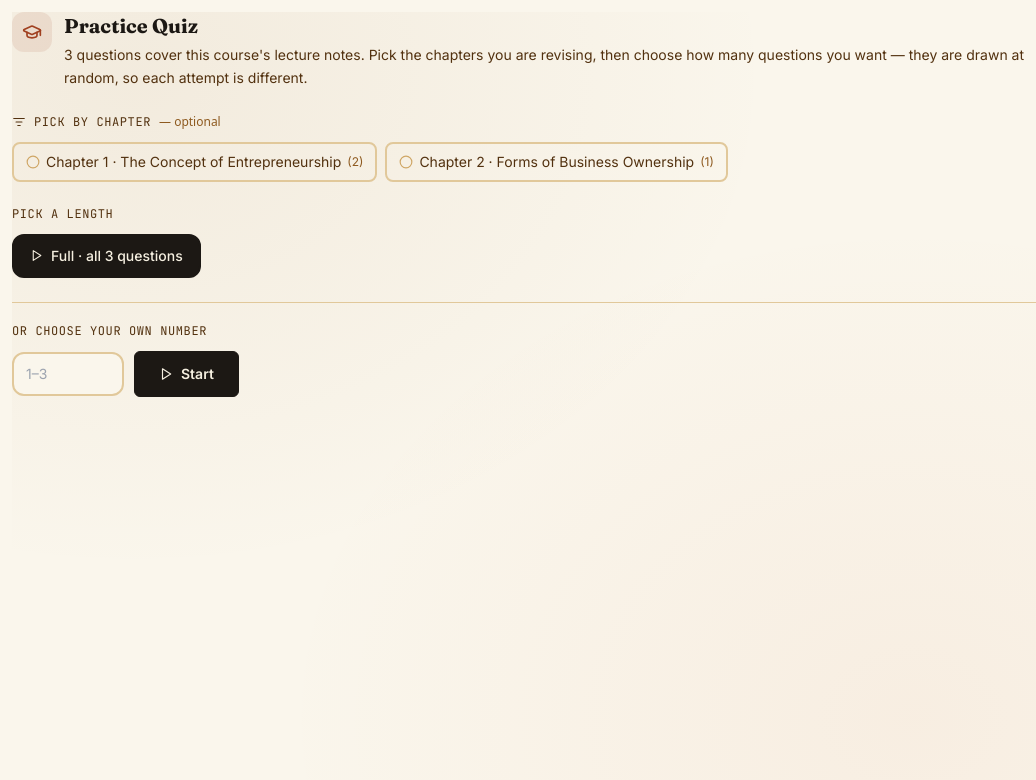
the chapter picker › clears a stale bound error when the pool changes
The width and height of the screenshot is (1036, 780).
Type "9" into the number field named "Number of questions".
click(68, 374); type("9")  # box top-left (12, 352), bottom-right (124, 396)
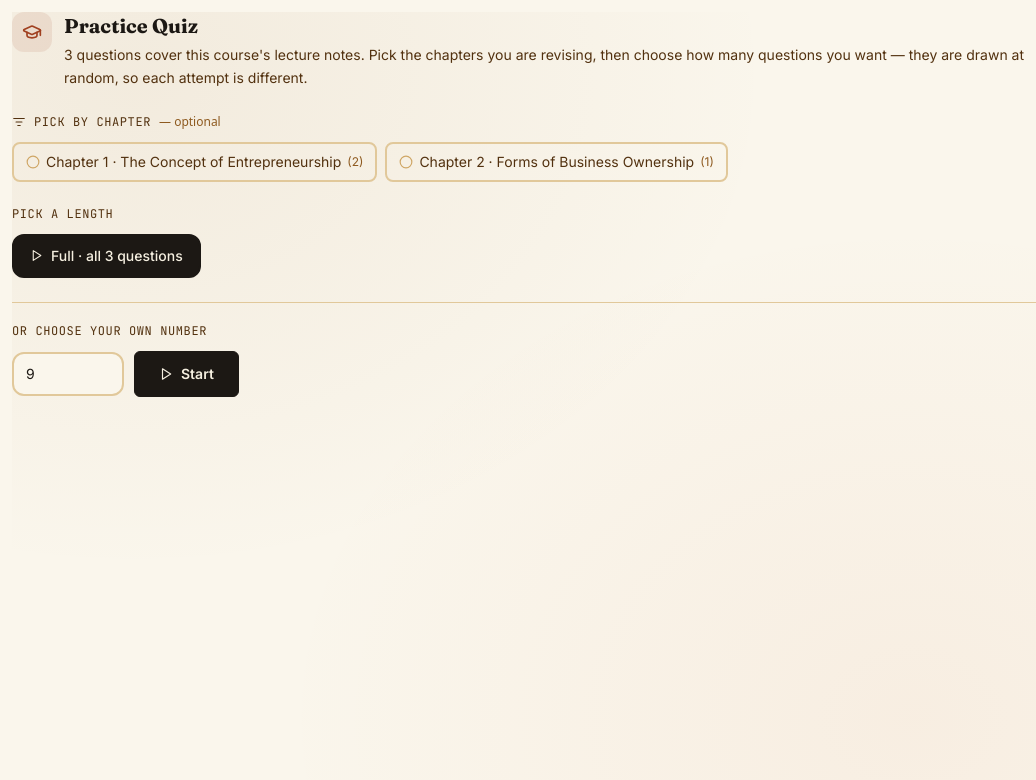
Click the button "Start".
click(186, 374)  # box top-left (134, 350), bottom-right (239, 396)
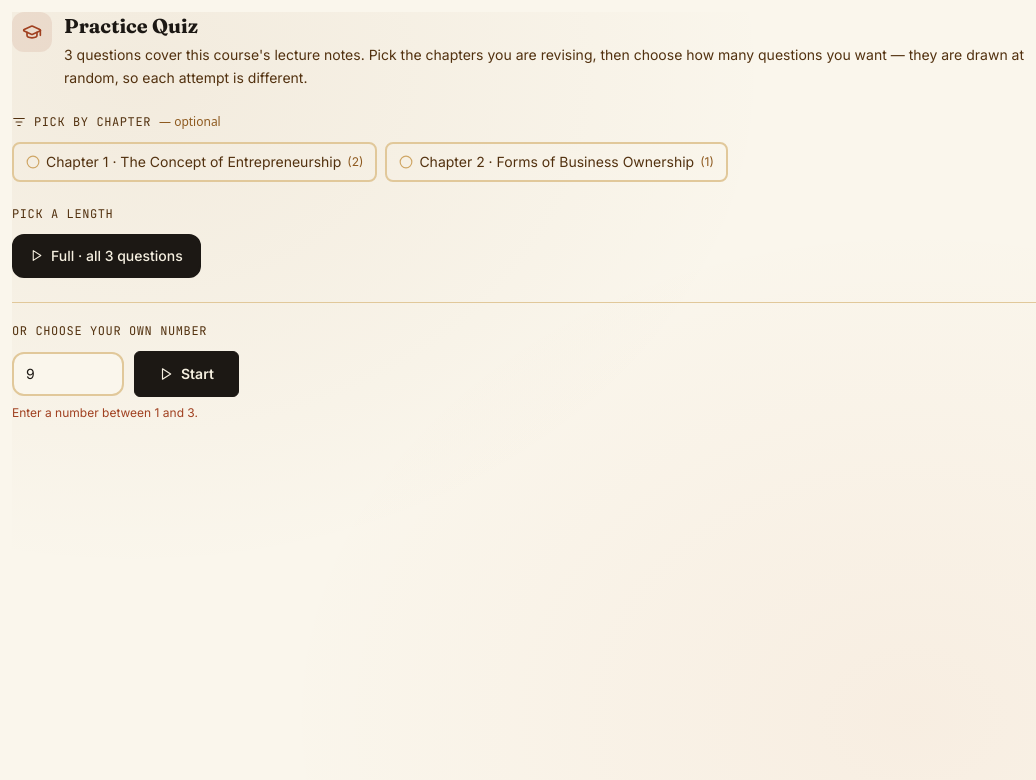
Check: the text "Enter a number between 1 and 3." is shown, box top-left (12, 404), bottom-right (198, 420)
Click the button "Chapter 2 · Forms of Business Ownership (1)".
click(557, 162)  # box top-left (385, 142), bottom-right (728, 182)
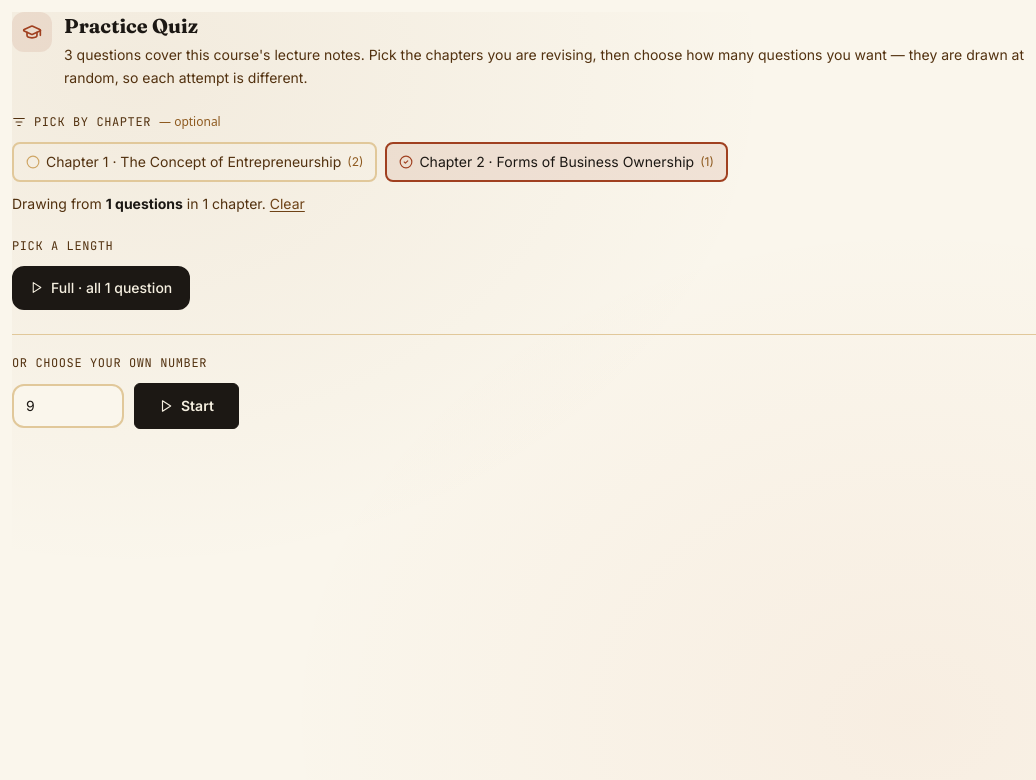
Check: the text "Enter a number between" is gone
